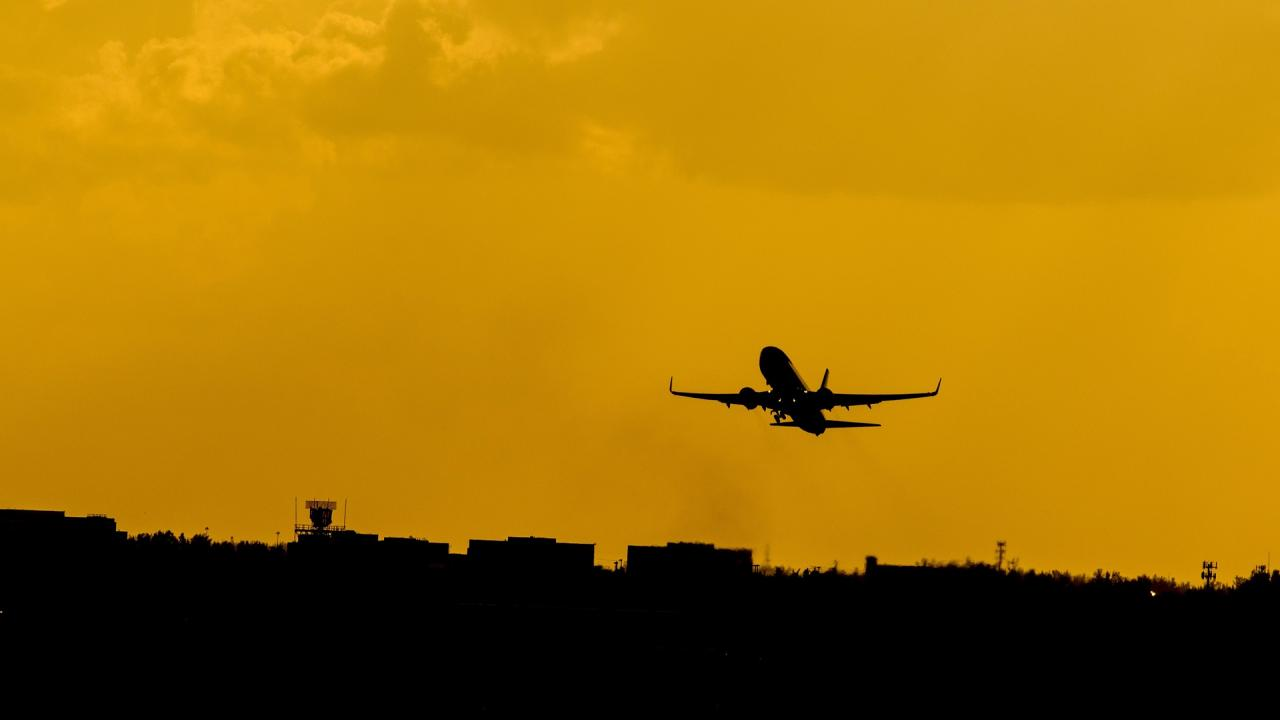Airplane: (661, 332, 951, 443)
